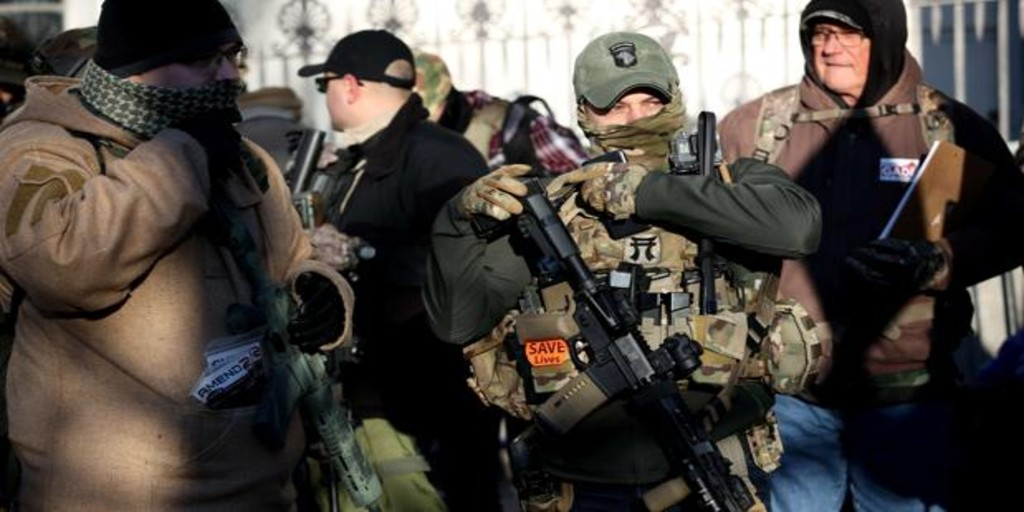Arma Real: (495, 170, 766, 512)
